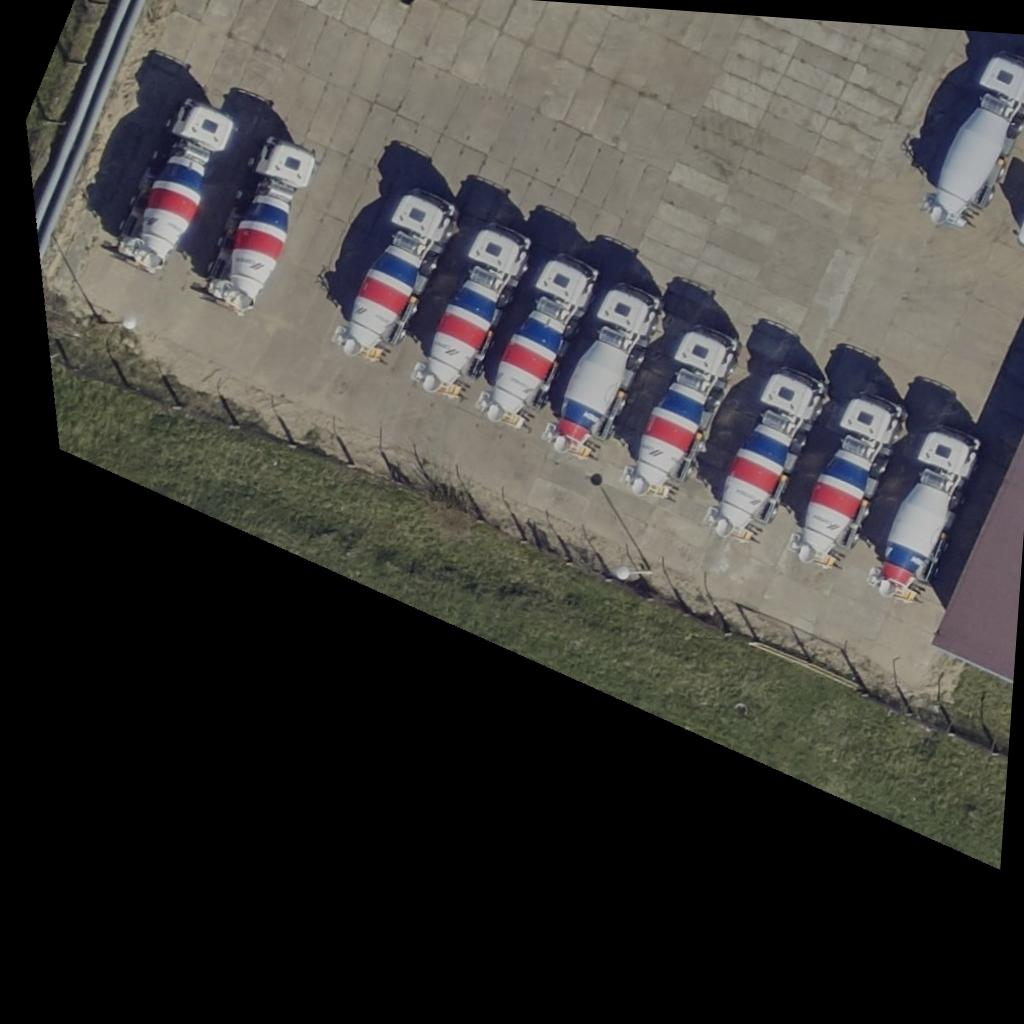betoniarka: (334, 184, 460, 364), (476, 251, 599, 432), (115, 94, 235, 279), (704, 364, 826, 543), (541, 280, 662, 460), (410, 219, 531, 399), (788, 390, 907, 572), (622, 322, 742, 502), (204, 132, 318, 319), (867, 421, 981, 604), (920, 47, 1024, 232)
